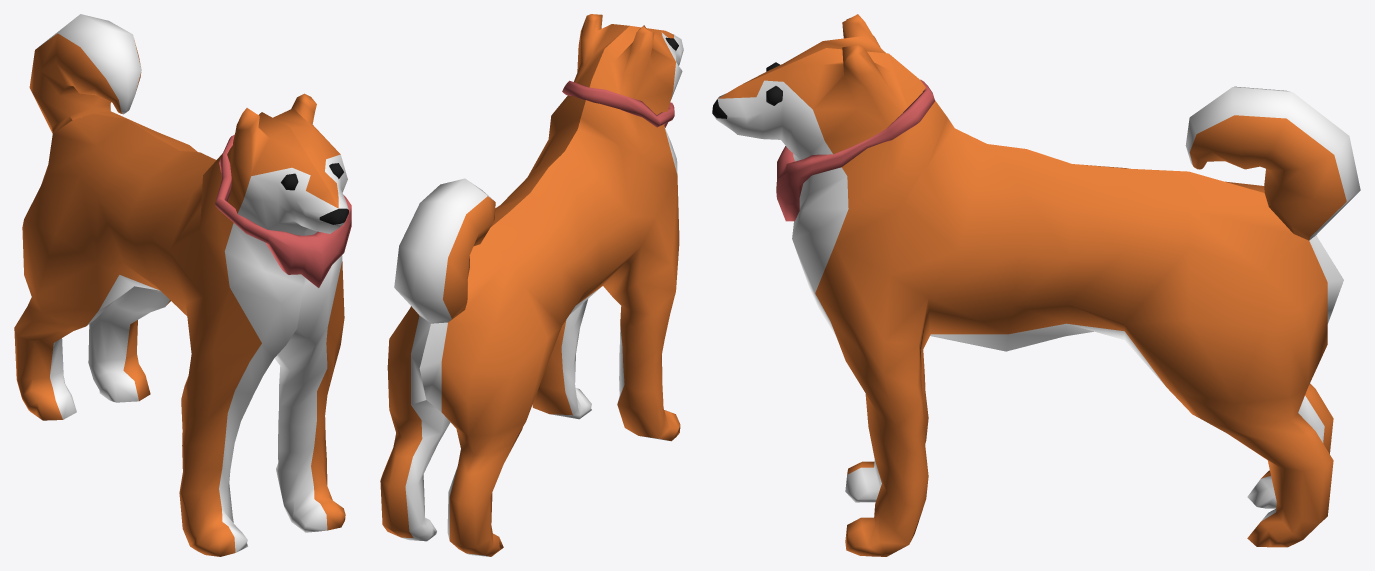
The model's file is Dog.obj.
The picture shows the model from 3 angles, left to right: view 1: azimuth 30°, elevation 25°; view 2: azimuth 150°, elevation 25°; view 3: azimuth 270°, elevation 25°; orthographic projection. The views are drawn at different scales.
Visible parts, largest first — view 1: Null.1; view 2: Null.1; view 3: Null.1.
Boxes of the visible parts, x1=… form: Null.1: x1=14, y1=14, x2=351, y2=556; Null.1: x1=380, y1=14, x2=683, y2=556; Null.1: x1=712, y1=14, x2=1360, y2=556.
Size of the model in its own units: 283 by 775 by 932.
